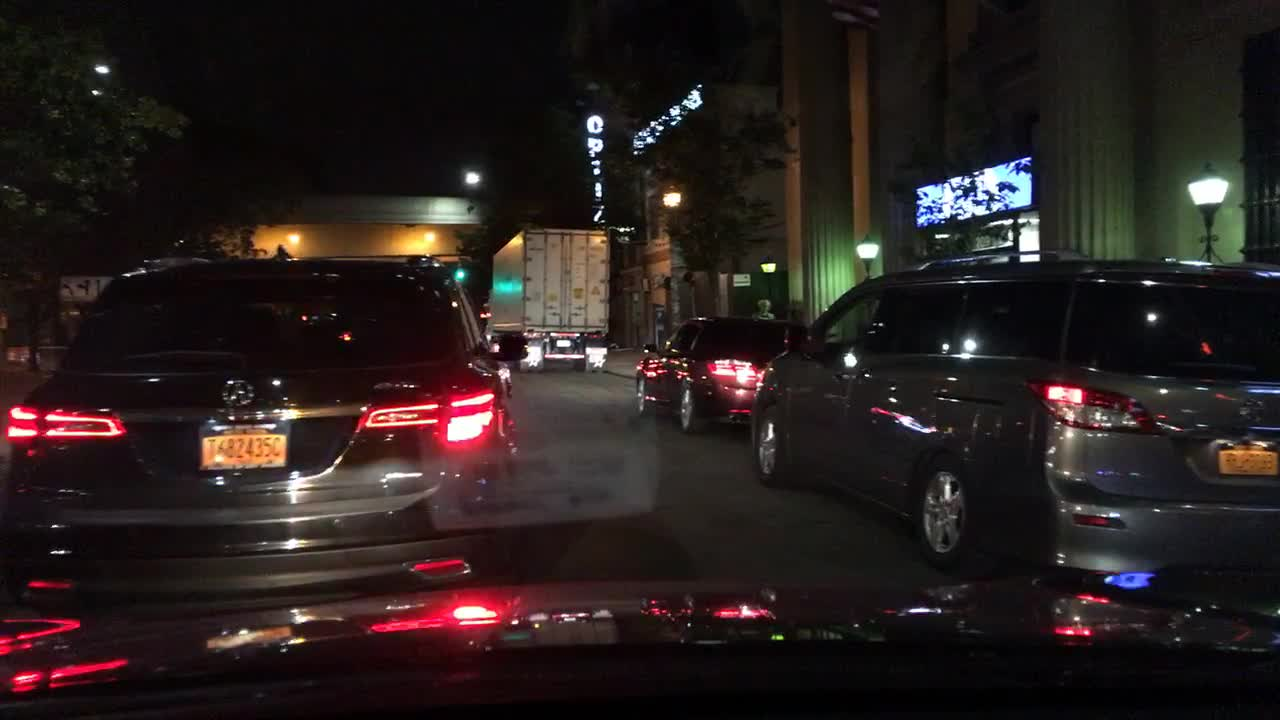car: (1, 257, 531, 608), (749, 249, 1278, 592), (632, 314, 808, 436)
person: (748, 296, 776, 316)
traffic light: (456, 259, 466, 280)
traffic sign: (54, 276, 113, 301)
truck: (482, 227, 610, 374)
